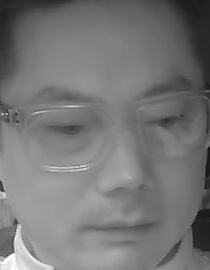glass: (25, 104, 112, 172), (130, 88, 209, 154)
mouth: (86, 210, 158, 249)
